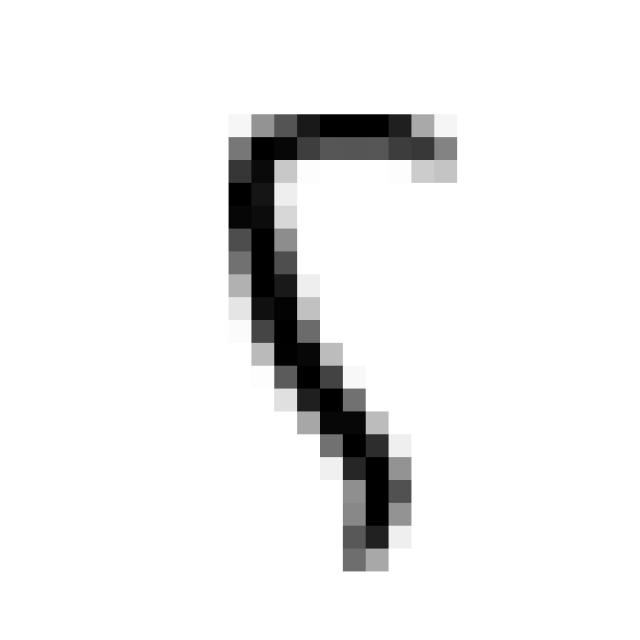2 -two-: (210, 89, 477, 589)
